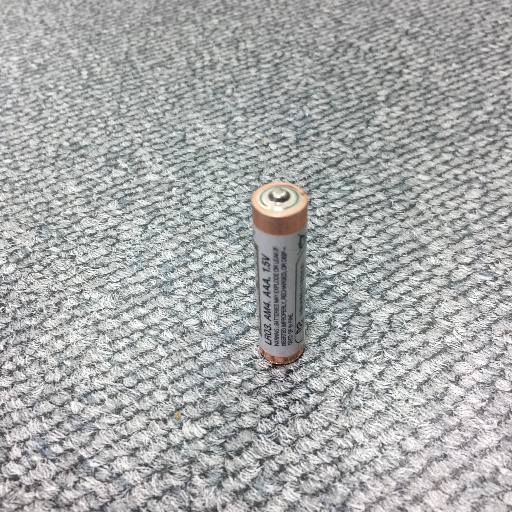Battery_0: (246, 172, 316, 371)
